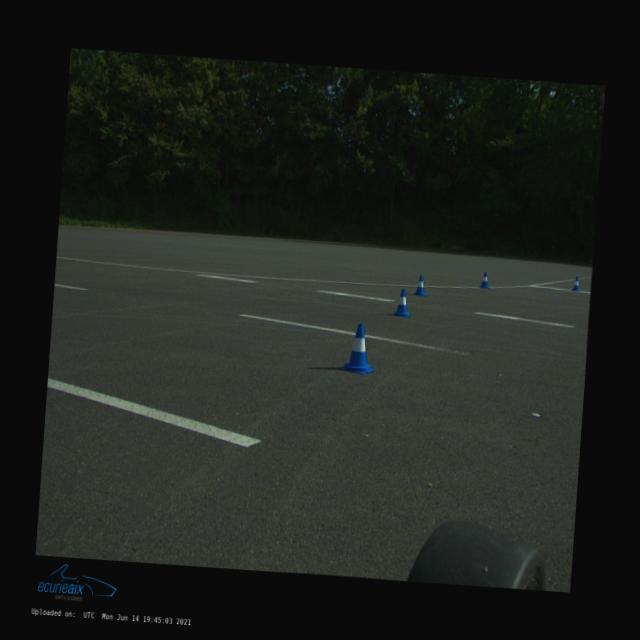blue_cone: (340, 322, 377, 374), (393, 287, 411, 317), (414, 274, 426, 296), (479, 271, 490, 288), (571, 276, 580, 290)
